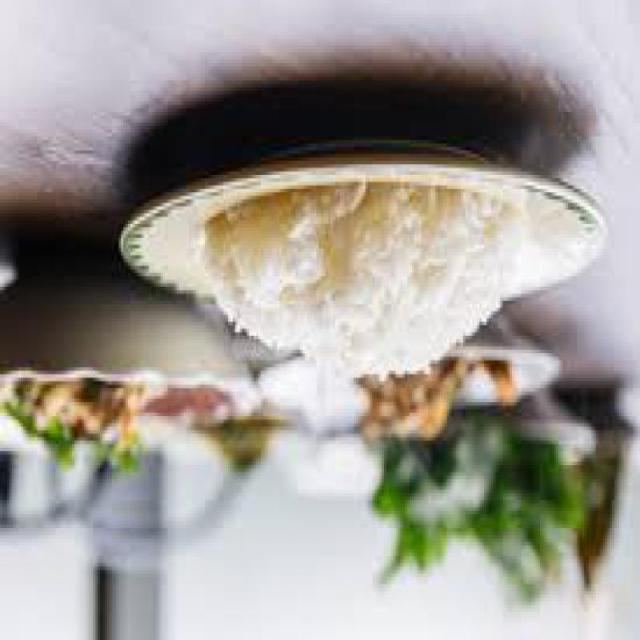nasi_putih: (202, 181, 524, 382)
